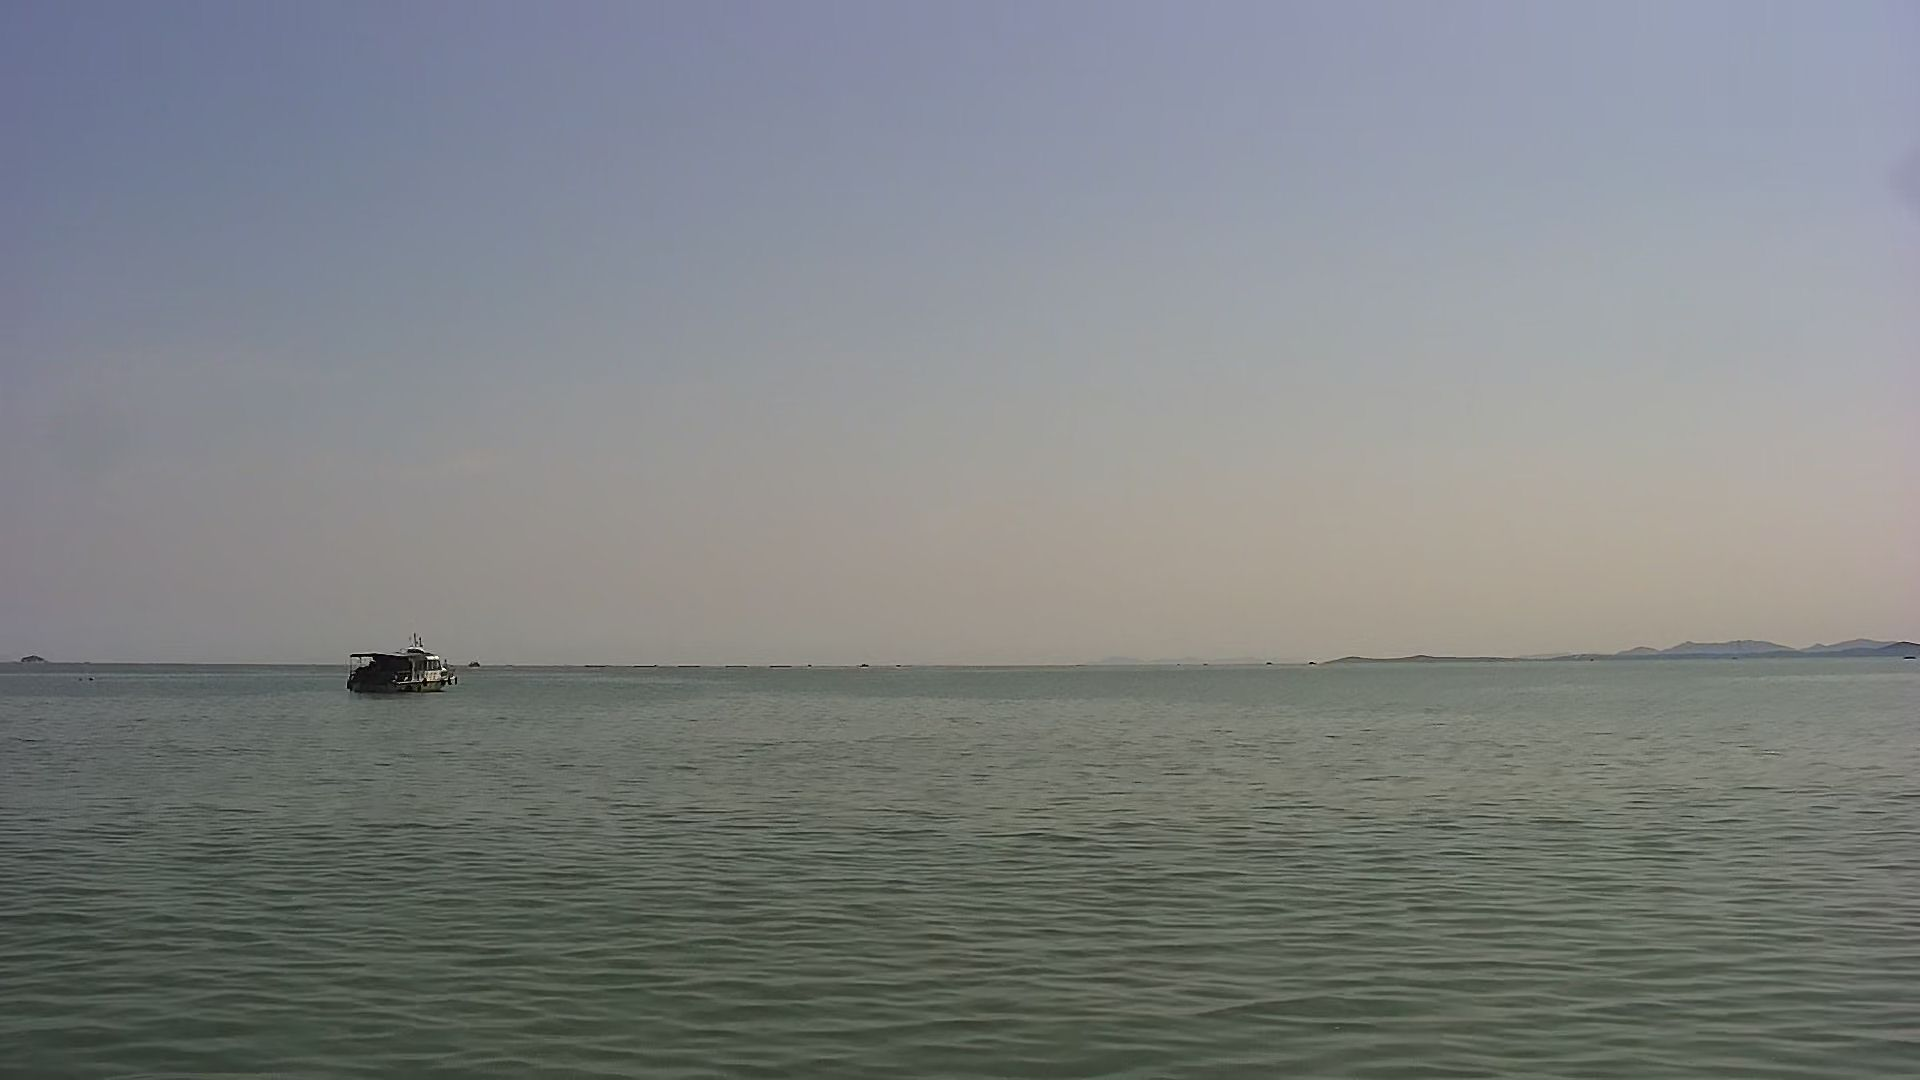ship: (336, 626, 464, 702)
